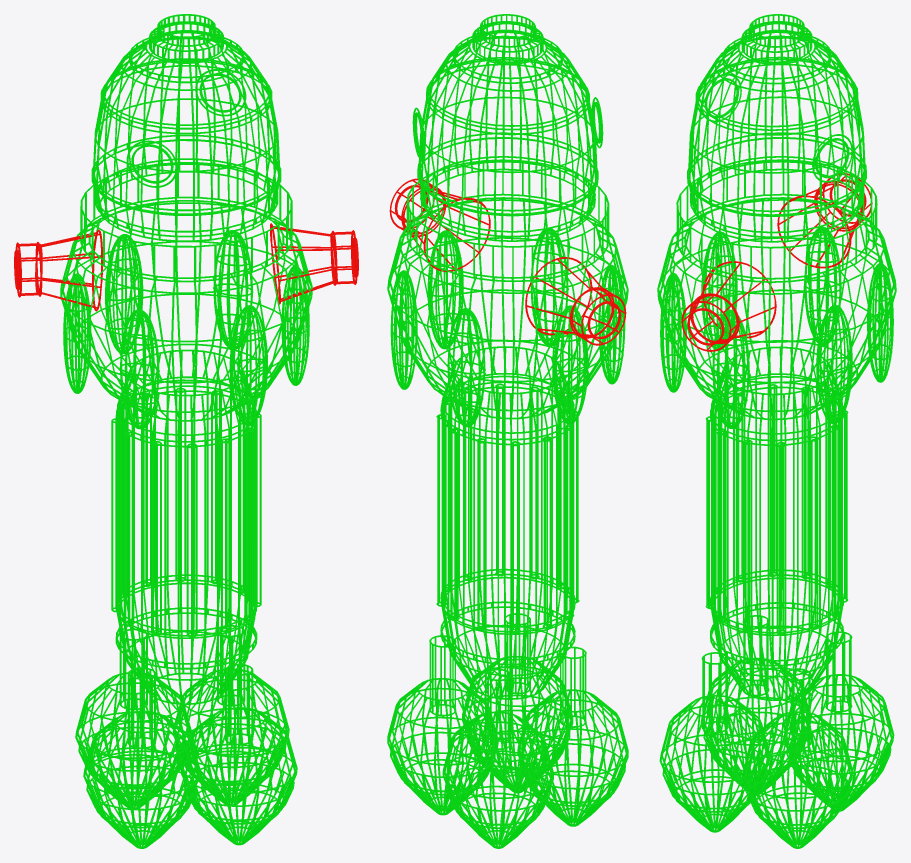
The model's file is mk2-mine-highlight-slurry-recovery-ports.glb.
3 renders of one model, left to right at view 1: azimuth 30°, elevation 25°; view 2: azimuth 150°, elevation 25°; view 3: azimuth 270°, elevation 25°, orthographic.
Visible parts, largest first — view 1: chassis technical wire, drill-assemblies technical wire, slurry-recovery-ports technical wire, coolant-connectors technical wire; view 2: chassis technical wire, drill-assemblies technical wire, slurry-recovery-ports technical wire, coolant-connectors technical wire; view 3: chassis technical wire, drill-assemblies technical wire, slurry-recovery-ports technical wire, coolant-connectors technical wire.
Boxes of the visible parts, x1=… form: chassis technical wire: x1=60, y1=14, x2=312, y2=748; drill-assemblies technical wire: x1=75, y1=668, x2=297, y2=848; slurry-recovery-ports technical wire: x1=14, y1=223, x2=358, y2=311; coolant-connectors technical wire: x1=126, y1=69, x2=246, y2=187; chassis technical wire: x1=387, y1=14, x2=628, y2=749; drill-assemblies technical wire: x1=387, y1=656, x2=628, y2=848; slurry-recovery-ports technical wire: x1=389, y1=178, x2=626, y2=345; coolant-connectors technical wire: x1=412, y1=97, x2=603, y2=158; chassis technical wire: x1=657, y1=14, x2=896, y2=749; drill-assemblies technical wire: x1=659, y1=657, x2=894, y2=848; slurry-recovery-ports technical wire: x1=681, y1=173, x2=872, y2=351; coolant-connectors technical wire: x1=701, y1=74, x2=852, y2=182.
Bounding box in the file's own units: 1.72 × 4.62 × 1.26.
